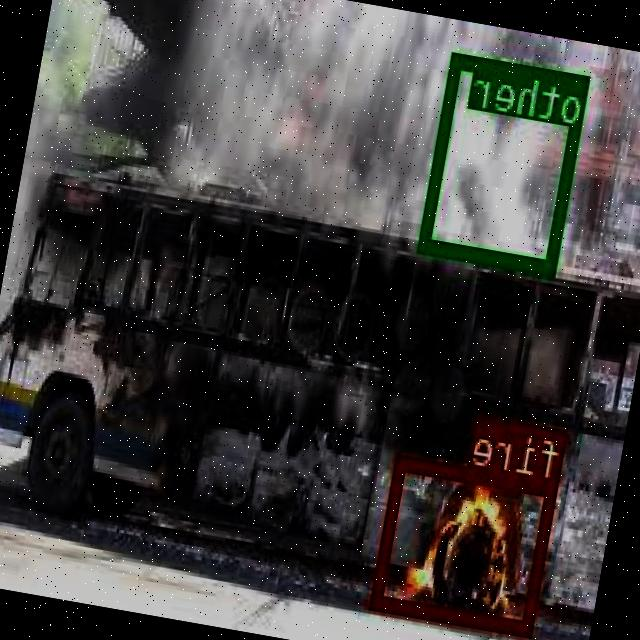fire: (374, 452, 561, 632)
